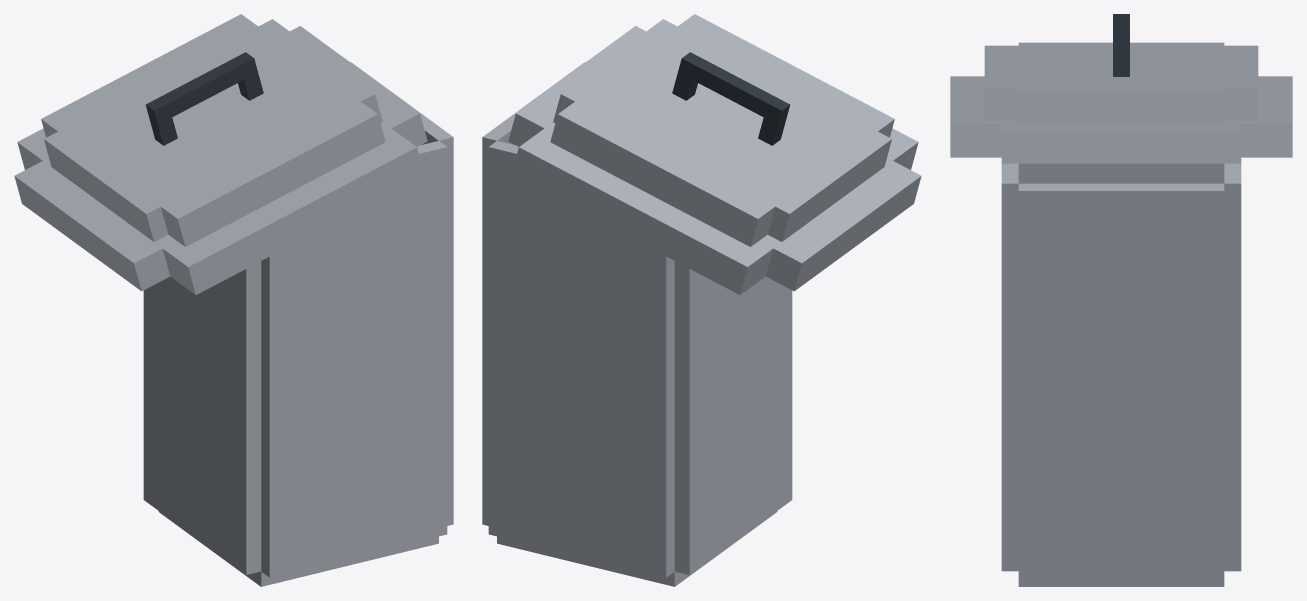
File: trashcanopen.gltf
The picture shows the model from 3 angles, left to right: view 1: azimuth 30°, elevation 25°; view 2: azimuth 150°, elevation 25°; view 3: azimuth 270°, elevation 25°; orthographic projection.
Visible parts, largest first — view 1: can, lid; view 2: can, lid; view 3: can, lid.
Part boxes in pixels (x1,y1,x2,y2): can: [143, 62, 453, 586]; lid: [14, 14, 427, 294]; can: [482, 62, 792, 586]; lid: [508, 14, 921, 294]; can: [1001, 163, 1241, 586]; lid: [950, 14, 1292, 163].
Size of the model in its own units: 1.39 by 1.95 by 1.25.
Materials: 1 (1 with a texture image).
